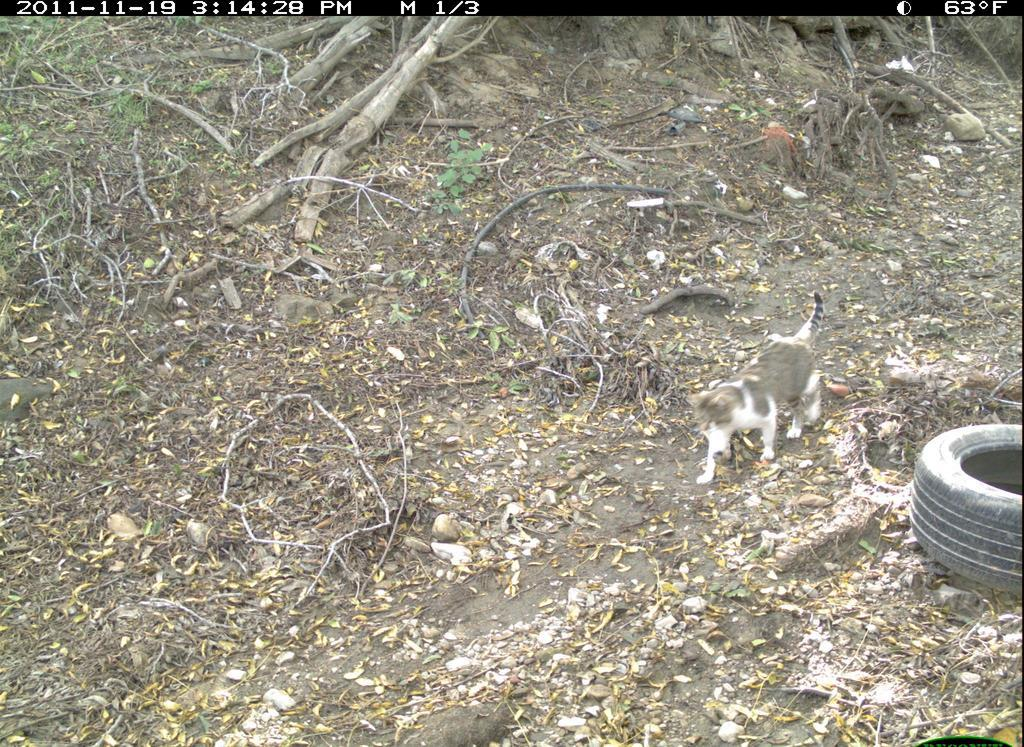cat: (671, 278, 839, 493)
